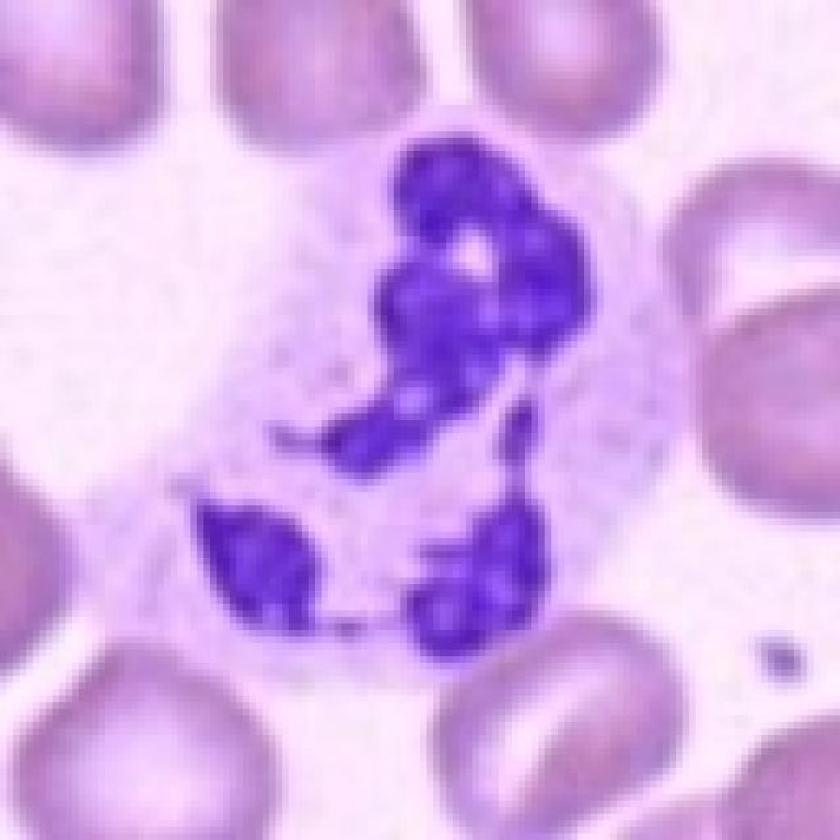neutrophil: (168, 140, 712, 661)
